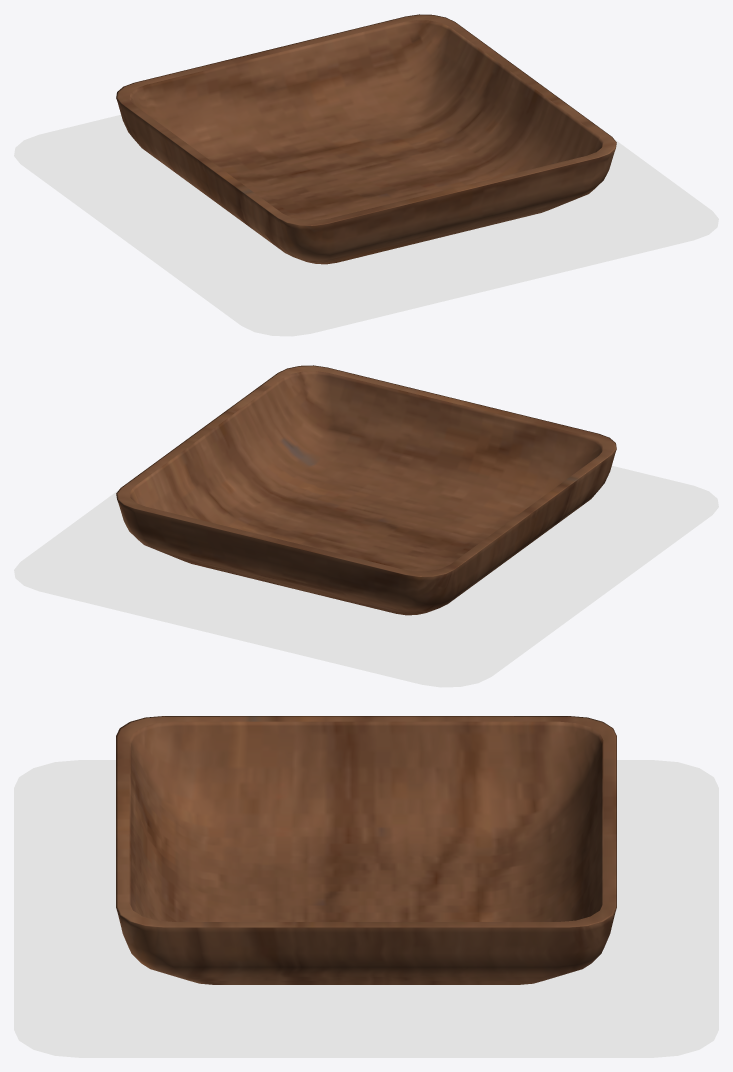
File: pi_wooddish01.gltf
3 renders of one model, top to bottom at view 1: azimuth 30°, elevation 25°; view 2: azimuth 150°, elevation 25°; view 3: azimuth 270°, elevation 25°, orthographic. The views are drawn at different scales.
Parts seen in each view (by area): view 1: um_pi_wooddish01_model_pi_wooddish01_modelShape:pi_wooddish0, um_pi_wooddish01_model_pi_wooddish01_modelShape:mat_texture_; view 2: um_pi_wooddish01_model_pi_wooddish01_modelShape:pi_wooddish0, um_pi_wooddish01_model_pi_wooddish01_modelShape:mat_texture_; view 3: um_pi_wooddish01_model_pi_wooddish01_modelShape:pi_wooddish0, um_pi_wooddish01_model_pi_wooddish01_modelShape:mat_texture_.
Part boxes in pixels (x1=…): um_pi_wooddish01_model_pi_wooddish01_modelShape:pi_wooddish0: x1=116, y1=14, x2=616, y2=264; um_pi_wooddish01_model_pi_wooddish01_modelShape:mat_texture_: x1=14, y1=114, x2=718, y2=336; um_pi_wooddish01_model_pi_wooddish01_modelShape:pi_wooddish0: x1=116, y1=365, x2=616, y2=615; um_pi_wooddish01_model_pi_wooddish01_modelShape:mat_texture_: x1=14, y1=465, x2=718, y2=687; um_pi_wooddish01_model_pi_wooddish01_modelShape:pi_wooddish0: x1=116, y1=716, x2=616, y2=984; um_pi_wooddish01_model_pi_wooddish01_modelShape:mat_texture_: x1=14, y1=760, x2=718, y2=1057.
Bounding box in the file's own units: 0.2253 × 0.0327 × 0.2253.
2 materials, 1 textured.
